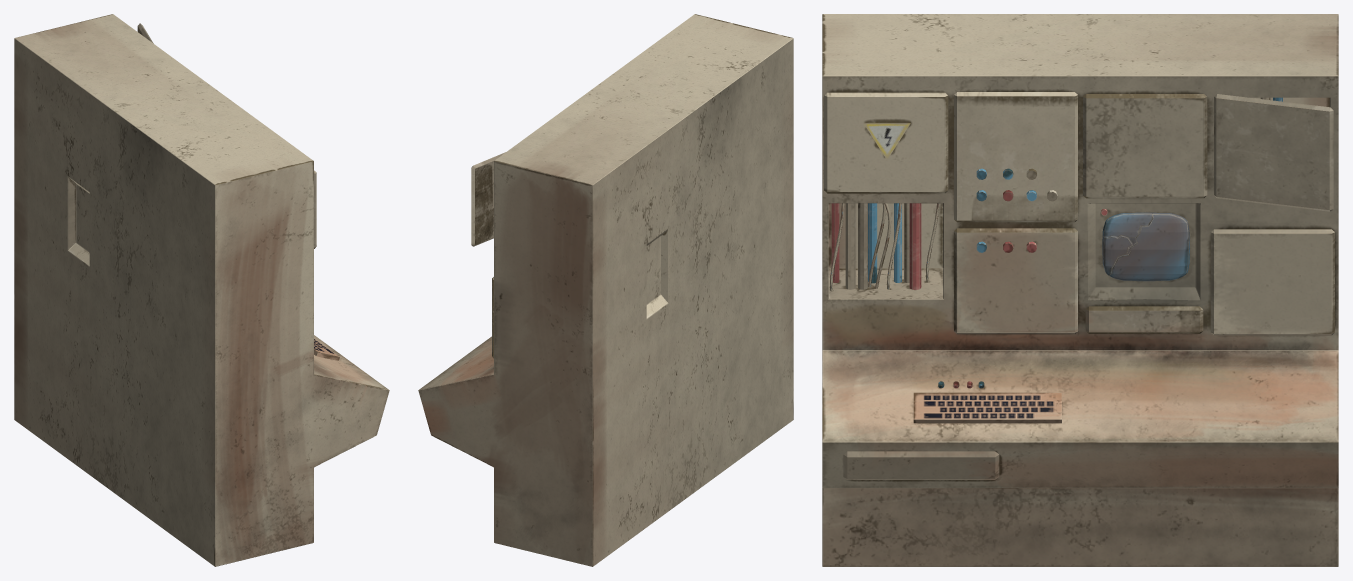
The model's file is oldschool_control_panel.glb.
3 renders of one model, left to right at view 1: azimuth 30°, elevation 25°; view 2: azimuth 150°, elevation 25°; view 3: azimuth 270°, elevation 25°, orthographic. The views are drawn at different scales.
Visible parts, largest first — view 1: Object_2; view 2: Object_2; view 3: Object_2.
Part boxes in pixels (x1,y1,x2,y2): Object_2: (14,14,389,566); Object_2: (418,14,793,566); Object_2: (822,14,1338,566).
Bounding box in the file's own units: 2.5 × 5.23 × 4.99.
1 material, 1 textured.
